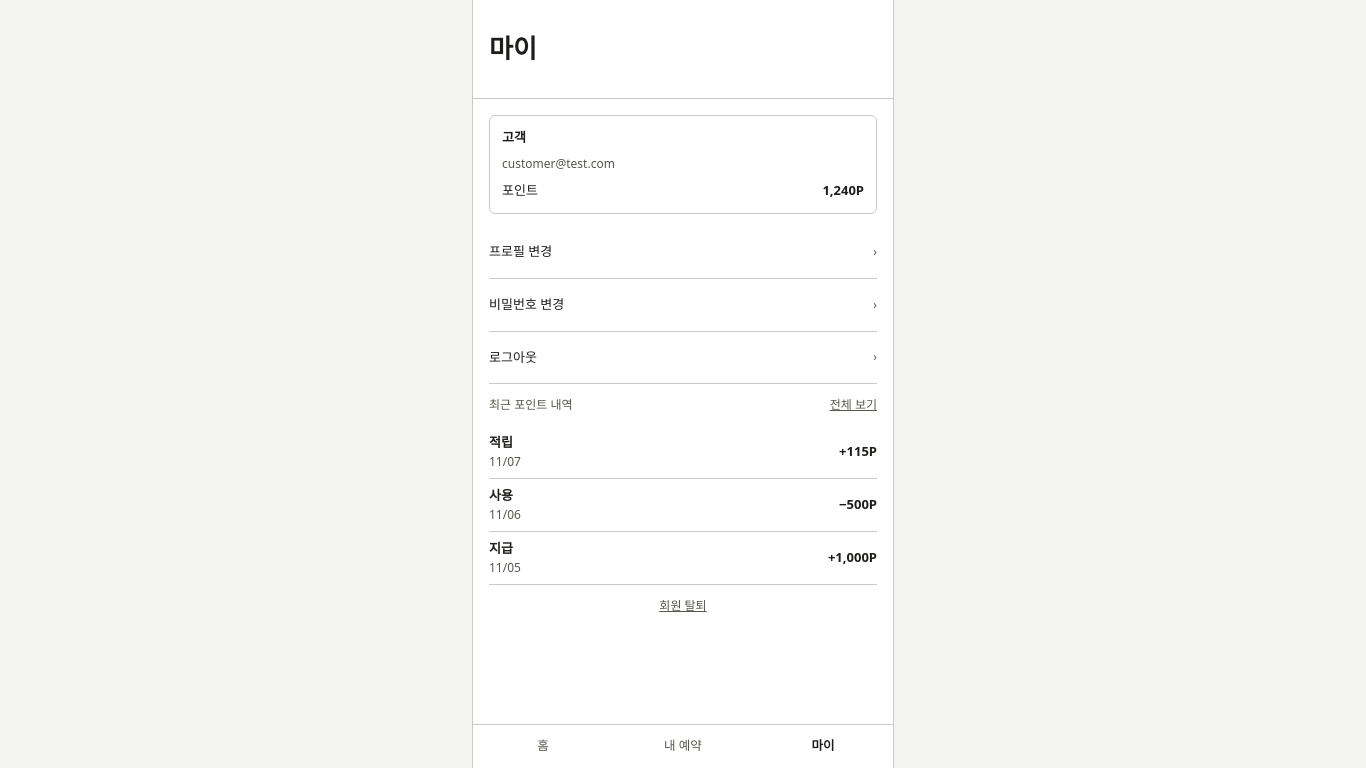
Test: MyPage (C6·C10) › 로그아웃 시트를 Escape로 닫으면 포커스가 「로그아웃」 버튼으로 돌아온다
The width and height of the screenshot is (1366, 768).
Click the button "로그아웃 ›". click: (513, 357)
box: [489,332,877,384]
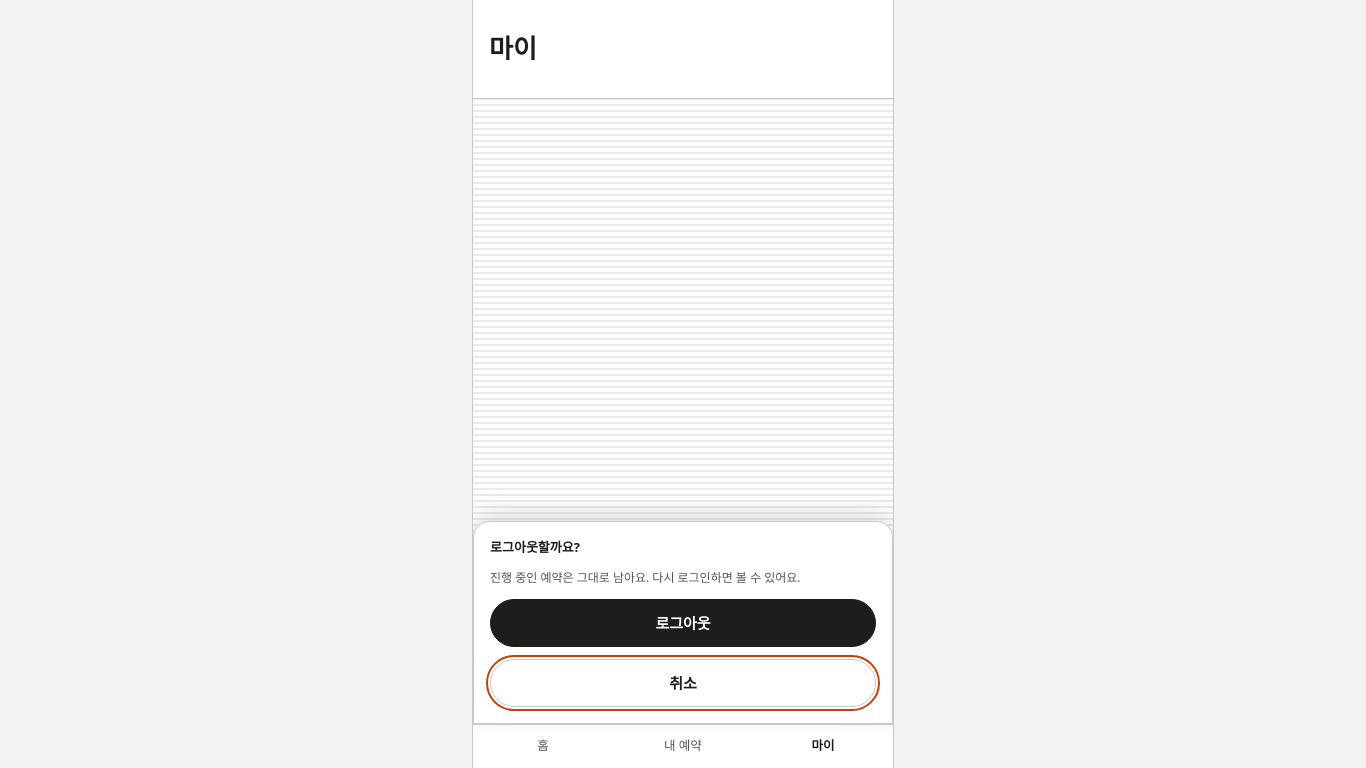
Press Escape
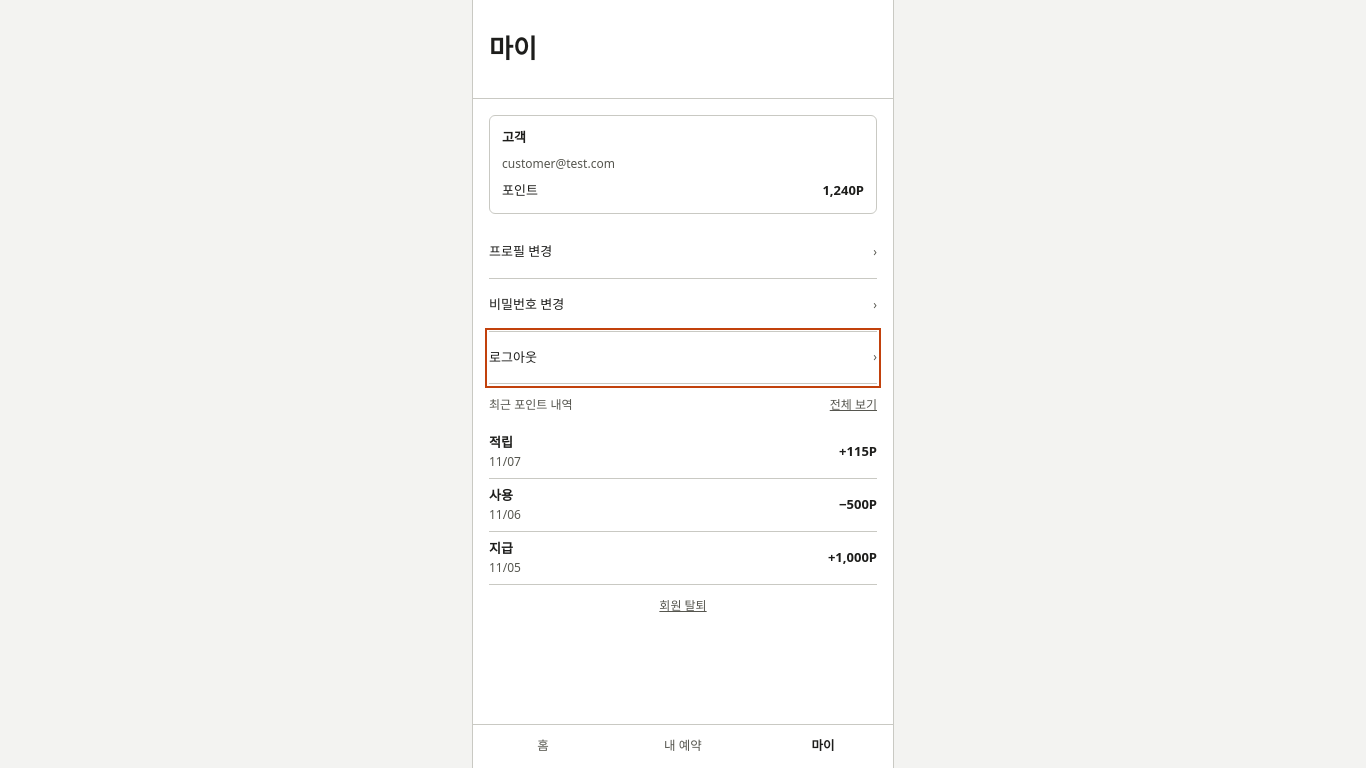
Expected: the dialog is gone
